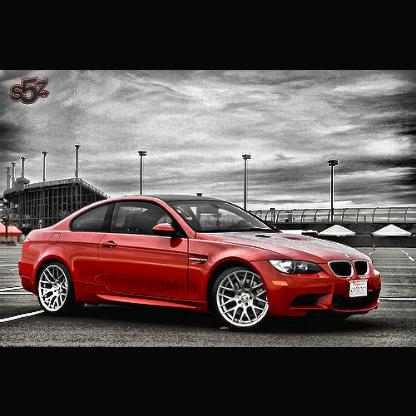BMW M3 Coupe 2012: (21, 196, 383, 330)
